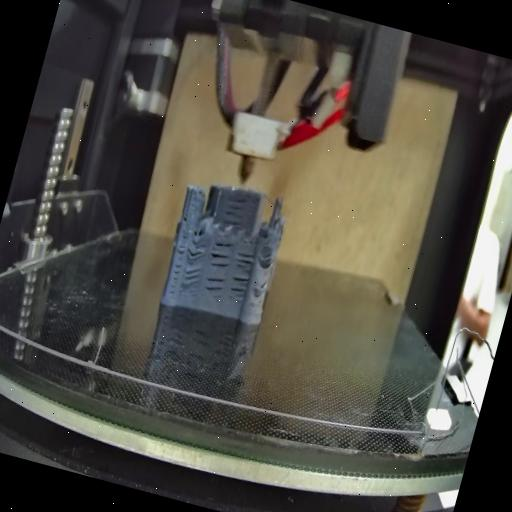cracks: (166, 238, 189, 298), (220, 188, 250, 226), (209, 240, 235, 270), (202, 272, 227, 302), (225, 272, 248, 304), (179, 264, 204, 291), (184, 238, 208, 262), (234, 249, 256, 272), (181, 208, 190, 224)
